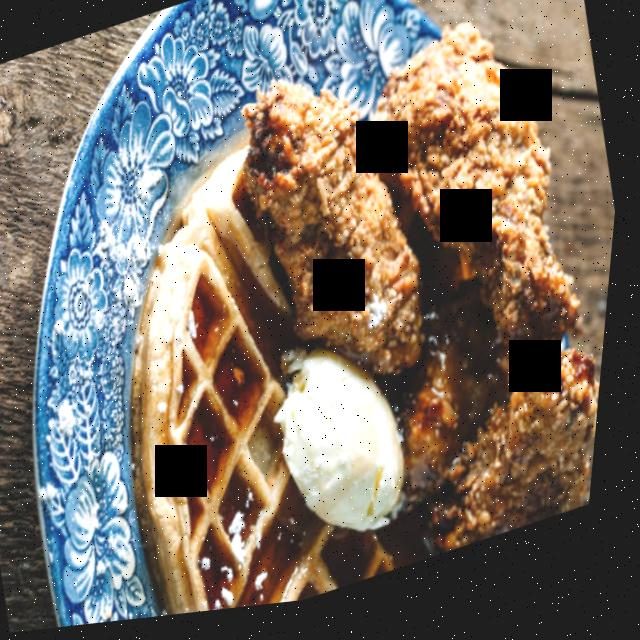Frango: (184, 0, 636, 620)
